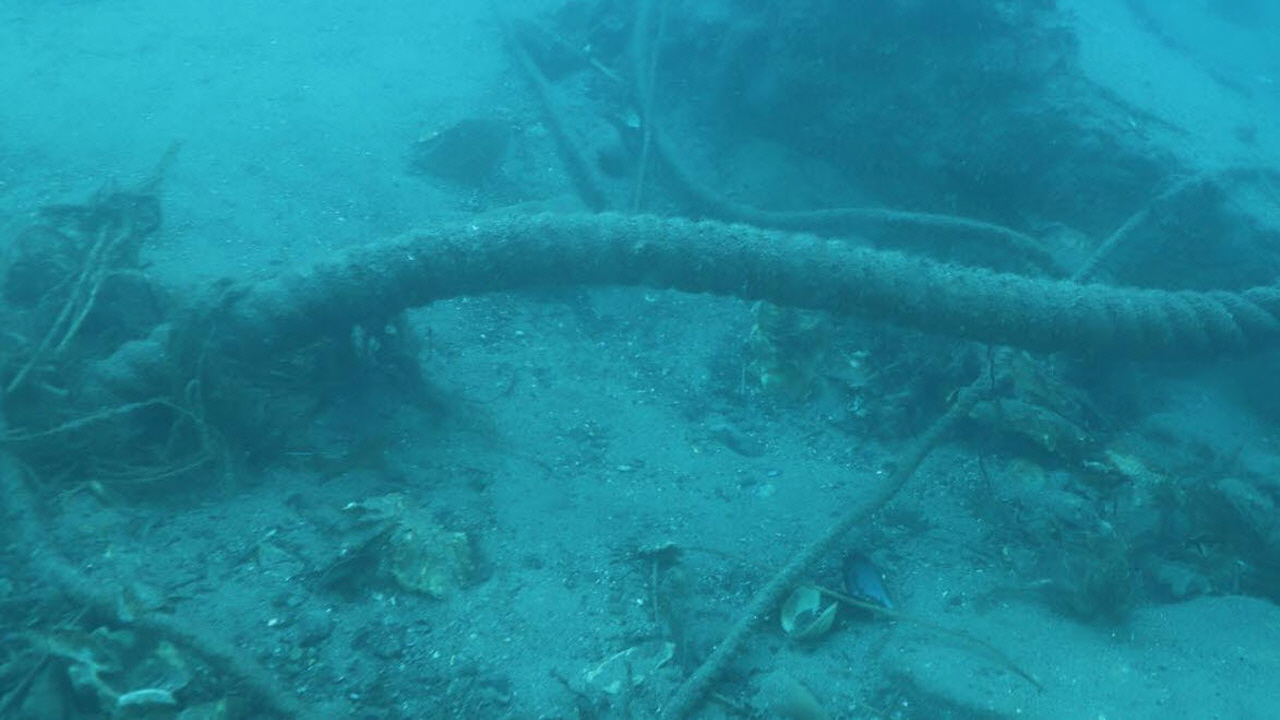rope: (654, 167, 1245, 720), (53, 204, 1280, 443), (620, 1, 1076, 283)
